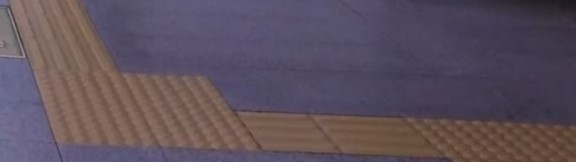guideBlock: (15, 23, 119, 73), (321, 115, 424, 157), (241, 109, 328, 152)
warningBlock: (36, 96, 151, 140), (425, 118, 523, 160), (35, 64, 132, 105), (144, 112, 242, 145), (125, 76, 214, 112), (519, 127, 576, 162)
